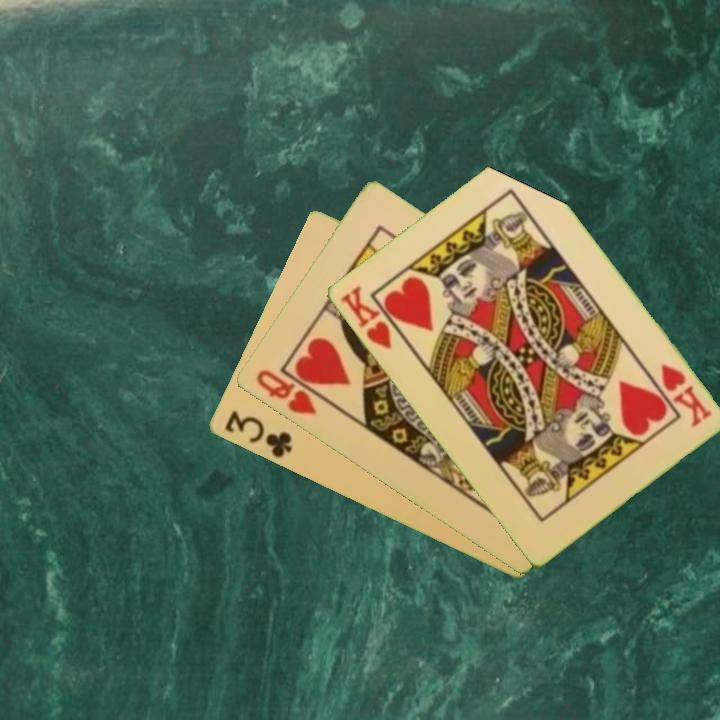3c: (220, 406, 295, 461)
Kh: (336, 282, 408, 352), (656, 360, 715, 431)
Qh: (252, 366, 319, 418)
